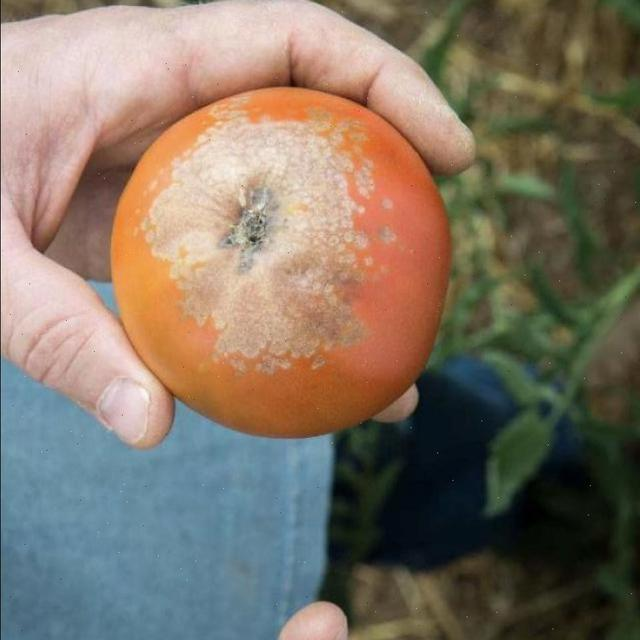Blossom End Rot Fruit: (91, 65, 268, 249)
